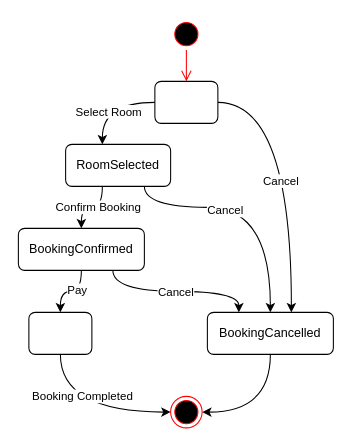
The diagram is 352 pixels wide and 446 high, and some of its shapes have lost their labels. The shapes that lost their labels are listed below. From the top down, each one's centre as x and y in pixels, then its label:
the point at 186,101: Idle
the point at 60,332: Paid
